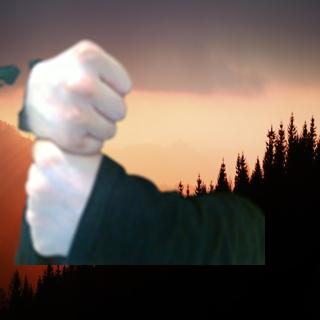CAREFUL: (12, 30, 134, 261)
